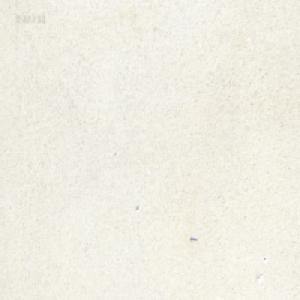Nail: (190, 235, 197, 241)
